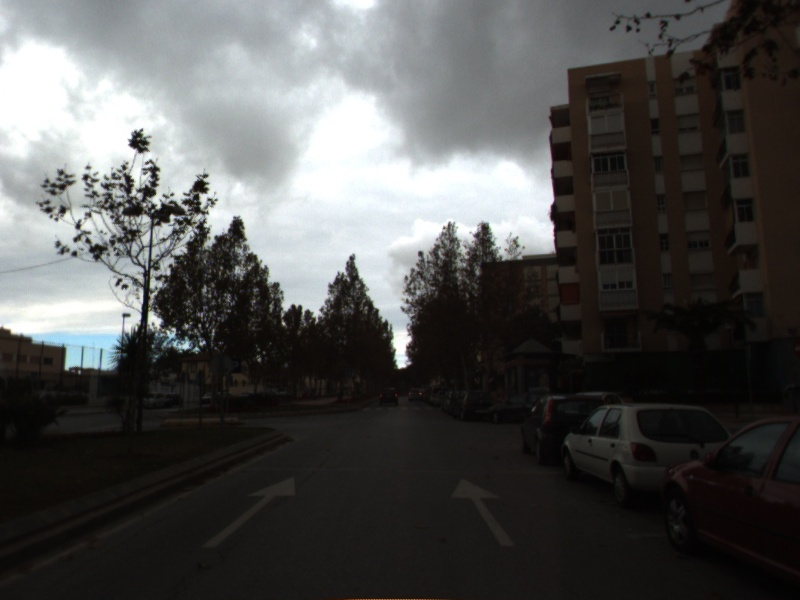STRAIGHT: (199, 473, 299, 550), (447, 475, 518, 549)
